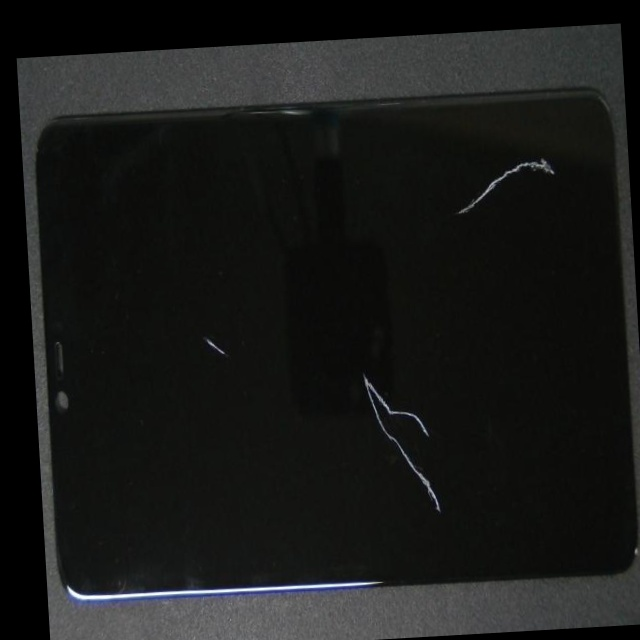scratch: (265, 263, 609, 597), (152, 195, 330, 479), (309, 115, 632, 243)
